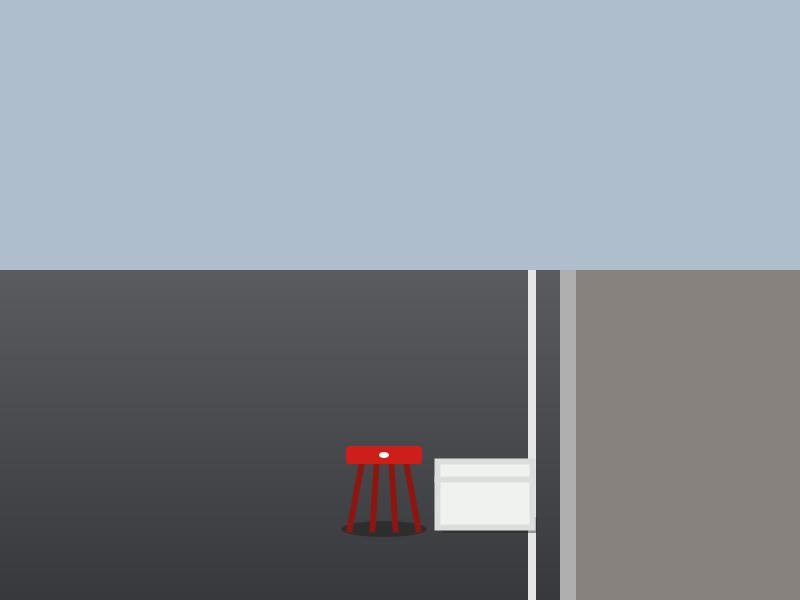ROAD_OBSTACLE: (346, 446, 422, 529), (437, 461, 532, 527)
